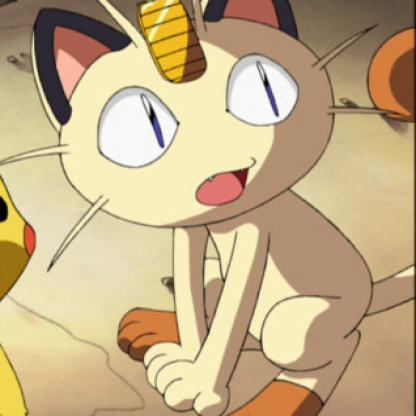Meowth: (29, 1, 388, 412)
